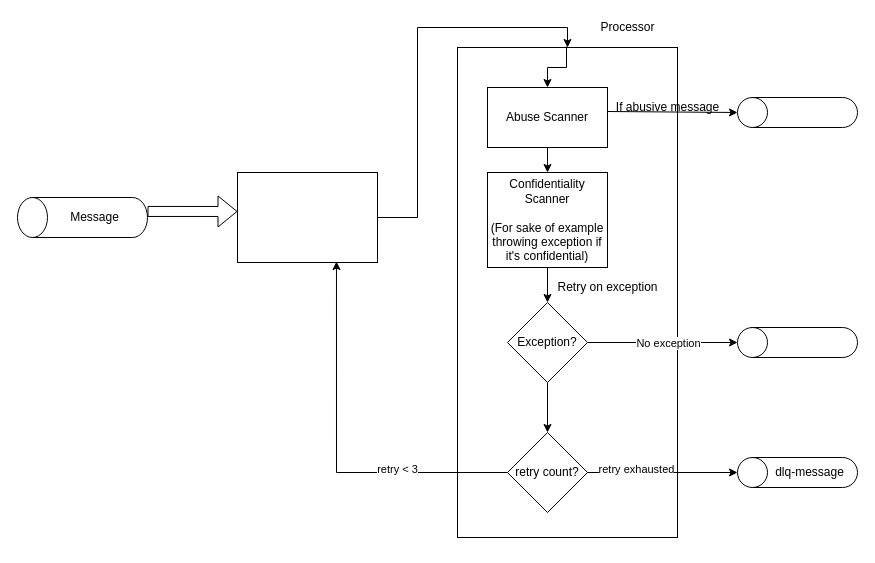
Image size: 875x563. Some labels were removed from this diagram. Each missing label, with the box of its shape:
abusive-message: (736, 96, 858, 128)
processed-message: (736, 326, 858, 358)
Subsciber: (236, 172, 378, 262)
